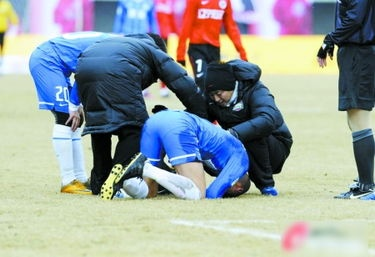falling: (110, 101, 254, 202)
